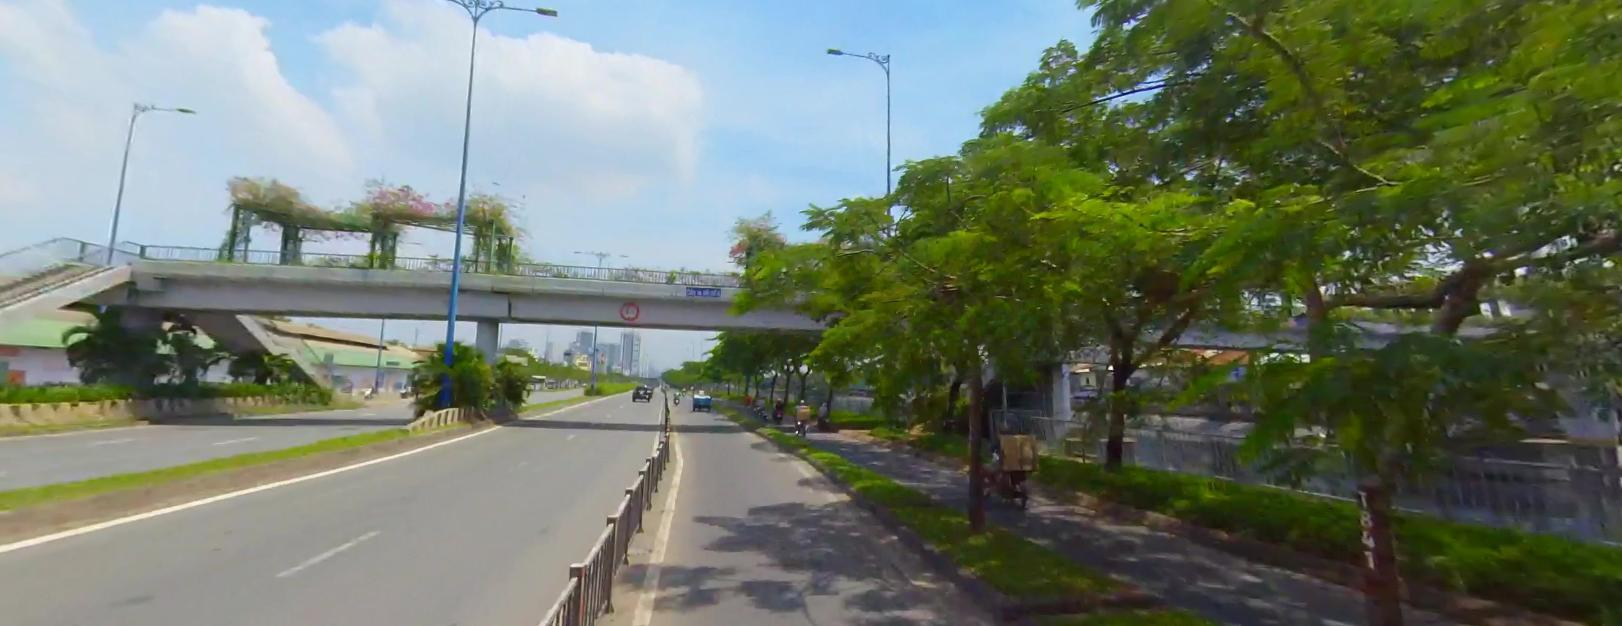Cam con lai: (617, 299, 639, 319)
